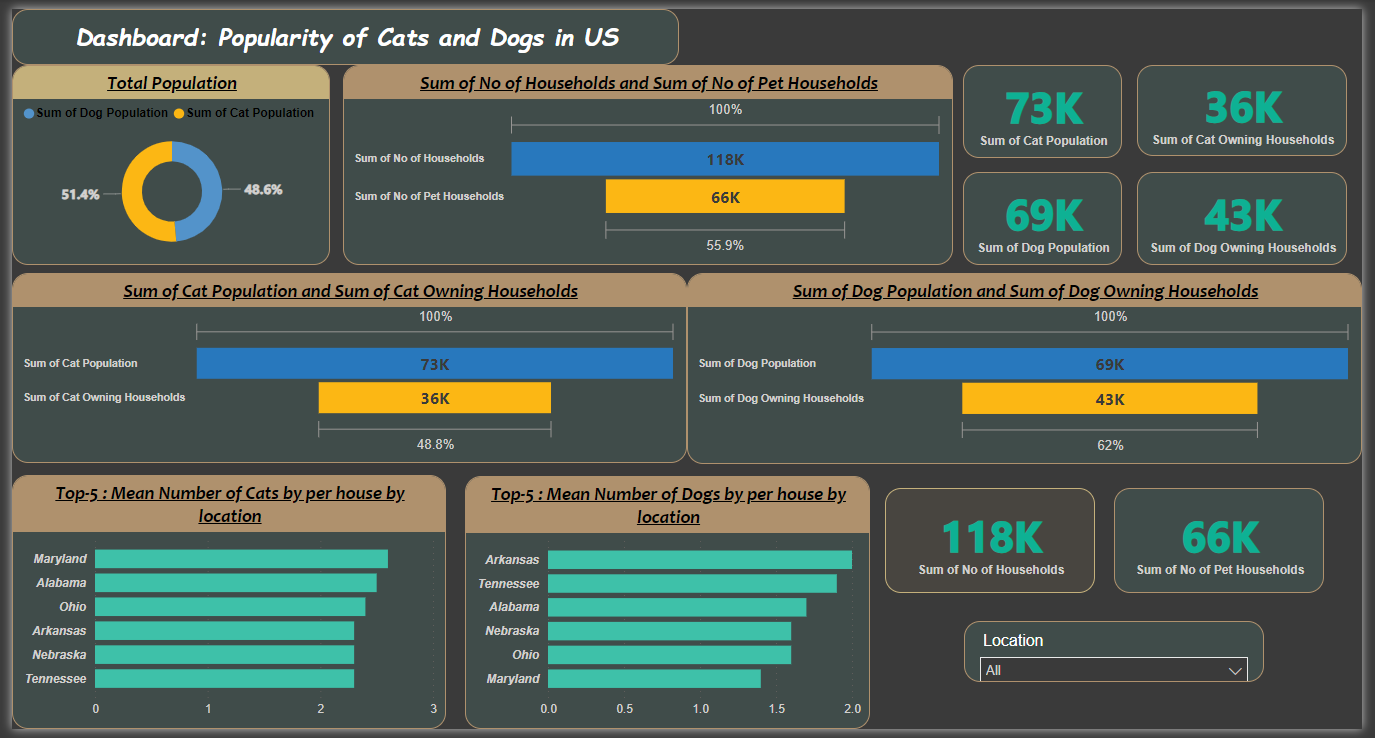

Layout of this report page (visuals, bound fields, positions):
{"tool":"powerbi","page":{"name":"Page 1","canvas":[1350,720],"ordinal":0},"visuals":[{"type":"donutChart","title":"Total Population","fields":{"Y":["Sum(Location (States).Dog Population (in 1000))","Sum(Location (States).Cat Population)"]},"box":[0,55.7,317.8,200.4],"z":0},{"type":"clusteredBarChart","title":"Top-5 : Mean Number of Cats by per house by location","fields":{"Category":["Location (States).Location"],"Y":["Sum(Location (States).Mean Number of Cats)"]},"box":[0,466.3,433.7,253.3],"z":1000},{"type":"clusteredBarChart","title":"Top-5 : Mean Number of Dogs by per house by location","fields":{"Category":["Location (States).Location"],"Y":["Sum(Location (States).Mean Number of Dogs per household)"]},"box":[453.4,466.5,404.8,253],"z":2000},{"type":"card","fields":{"Values":["Sum(Location (States).Cat Population)"]},"box":[951.3,55.7,158.9,93.1],"z":3000},{"type":"card","fields":{"Values":["Sum(Location (States).Cat Owning Households)"]},"box":[1125.3,55.7,209.5,91.1],"z":4000},{"type":"card","fields":{"Values":["Sum(Location (States).Dog Population)"]},"box":[951.3,162.9,158.9,93.1],"z":5000},{"type":"card","fields":{"Values":["Sum(Location (States).Dog Owning Households (1000s))"]},"box":[1125.3,162.9,209.5,93.1],"z":6000},{"type":"funnel","fields":{"Y":["Sum(Location (States).Number of Households (in 1000))","Sum(Location (States).Number of Pet Households (in 1000))"]},"box":[330.9,55.7,610.2,200.4],"z":7000},{"type":"funnel","fields":{"Y":["Sum(Location (States).Cat Population)","Sum(Location (States).Cat Owning Households)"]},"box":[0,264.1,675,190.3],"z":8000},{"type":"funnel","fields":{"Y":["Sum(Location (States).Dog Population)","Sum(Location (States).Dog Owning Households)"]},"box":[675,264.1,675,191.3],"z":9000},{"type":"card","fields":{"Values":["Sum(Location (States).No of Households)"]},"box":[873.4,478.7,209.5,105.2],"z":10000},{"type":"card","fields":{"Values":["Sum(Location (States).No of Pet/Households)"]},"box":[1102.1,478.7,209.5,105.2],"z":11000},{"type":"textbox","box":[0,0,666.9,55.7],"z":12000},{"type":"slicer","fields":{"Values":["Location (States).Location"]},"box":[952.3,612.3,299.6,60.7],"z":13000}]}

Visuals, with their boxes in screenshot pixels (x1, y1, x2, y2), scaled from the page's 1350x720 canvas onto the 1375x738 screenshot:
"Total Population" donutChart: l=0, t=57, r=324, b=263
"Top-5 : Mean Number of Cats by per house by location" clusteredBarChart: l=0, t=478, r=442, b=737
"Top-5 : Mean Number of Dogs by per house by location" clusteredBarChart: l=462, t=478, r=874, b=737
card - Sum(Location (States).Cat Population): l=969, t=57, r=1131, b=153
card - Sum(Location (States).Cat Owning Households): l=1146, t=57, r=1360, b=150
card - Sum(Location (States).Dog Population): l=969, t=167, r=1131, b=262
card - Sum(Location (States).Dog Owning Households (1000s)): l=1146, t=167, r=1360, b=262
funnel - Sum(Location (States).Number of Households (in 1000)) x Sum(Location (States).Number of Pet Households (in 1000)): l=337, t=57, r=959, b=263
funnel - Sum(Location (States).Cat Population) x Sum(Location (States).Cat Owning Households): l=0, t=271, r=688, b=466
funnel - Sum(Location (States).Dog Population) x Sum(Location (States).Dog Owning Households): l=688, t=271, r=1374, b=467
card - Sum(Location (States).No of Households): l=890, t=491, r=1103, b=598
card - Sum(Location (States).No of Pet/Households): l=1123, t=491, r=1336, b=598
textbox: l=0, t=0, r=679, b=57
slicer - Location (States).Location: l=970, t=628, r=1275, b=690
